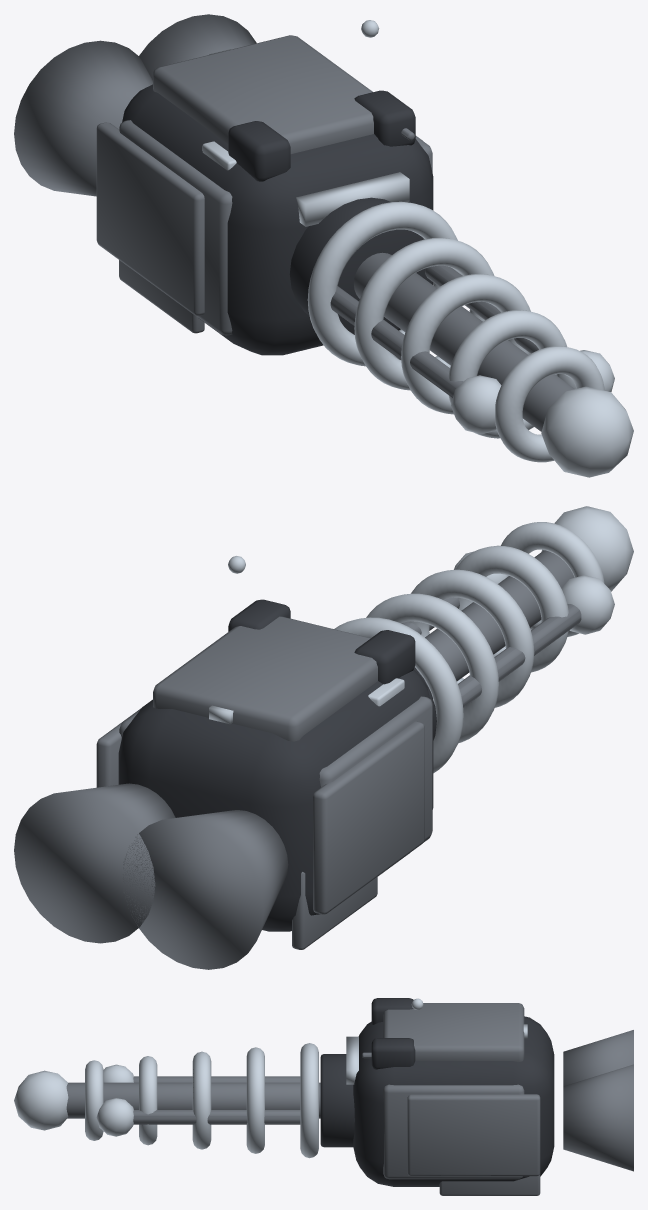
Rendered from weapon_drone_storm_bringer.glb.
3 views of the same model, one above another, from view 1: azimuth 30°, elevation 25°; view 2: azimuth 150°, elevation 25°; view 3: azimuth 270°, elevation 25° (orthographic). The views are drawn at different scales.
Parts seen in each view (by area): view 1: weapon_drone_storm_bringer; view 2: weapon_drone_storm_bringer; view 3: weapon_drone_storm_bringer.
Boxes of the visible parts, <box> form: weapon_drone_storm_bringer: <box>14,14,633,477</box>; weapon_drone_storm_bringer: <box>14,506,633,969</box>; weapon_drone_storm_bringer: <box>14,998,633,1195</box>.
Size of the model in its own units: 0.696 by 0.7692 by 2.28.
